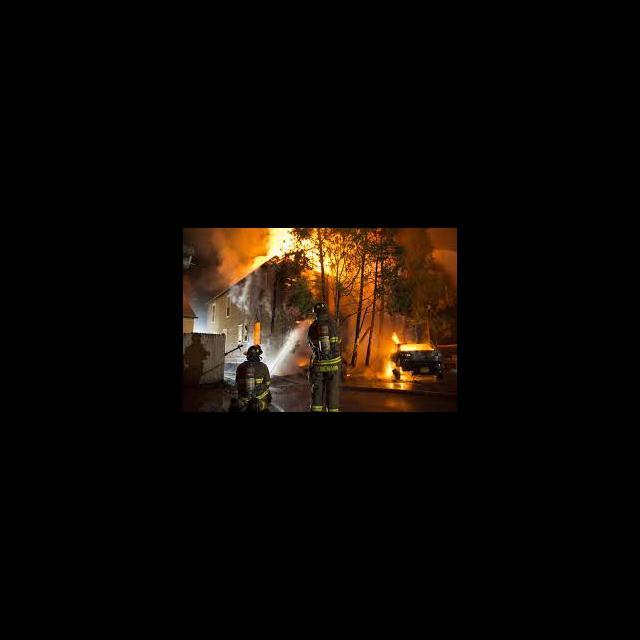Fire: (251, 228, 339, 276), (382, 328, 446, 386), (254, 322, 261, 343)
